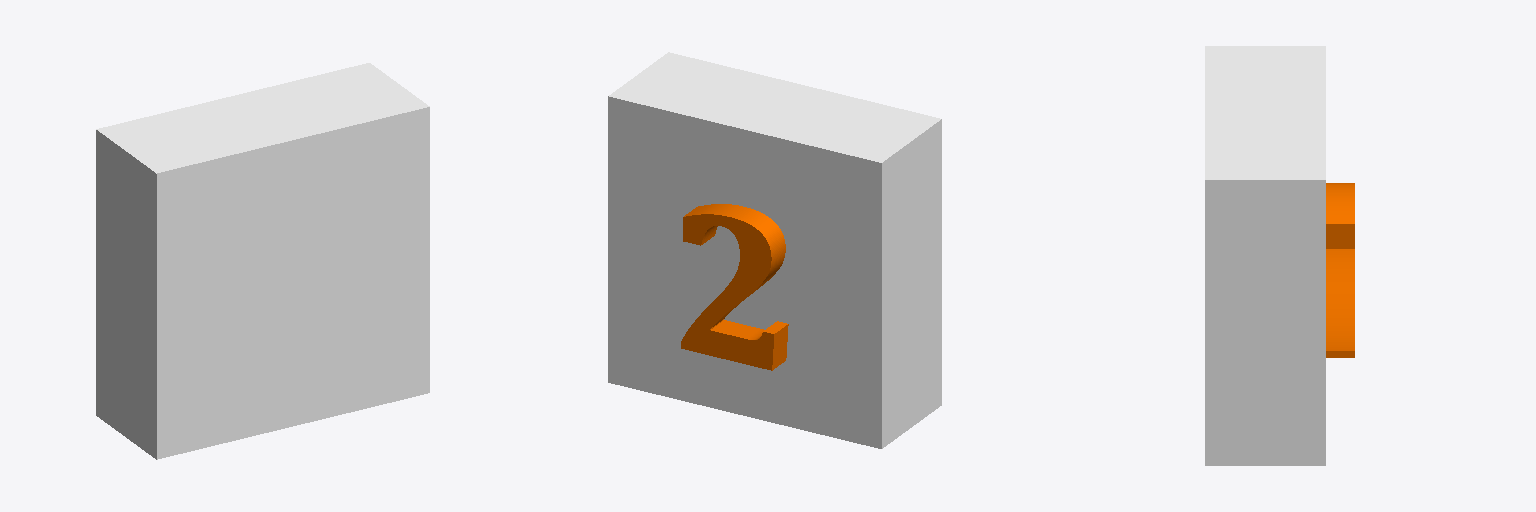
The picture shows the model from 3 angles: view 1: azimuth 30°, elevation 25°; view 2: azimuth 150°, elevation 25°; view 3: azimuth 270°, elevation 25°; orthographic projection.
Visible parts, largest first — view 1: number2; view 2: number2; view 3: number2.
Boxes of the visible parts, box(x1,y1,x2,y2) form: number2: box(96, 63, 429, 459); number2: box(608, 52, 941, 448); number2: box(1205, 46, 1354, 465).
Bounding box in the file's own units: 2 × 2 × 0.9446.
1 materials, 1 textured.